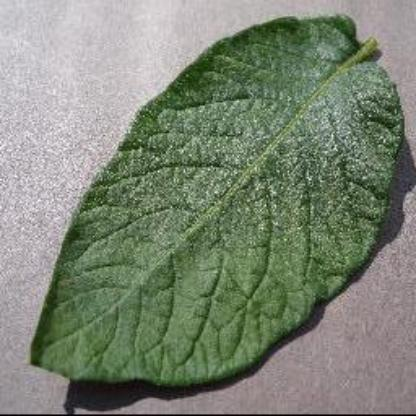Healthy-plant: (27, 14, 408, 394)
